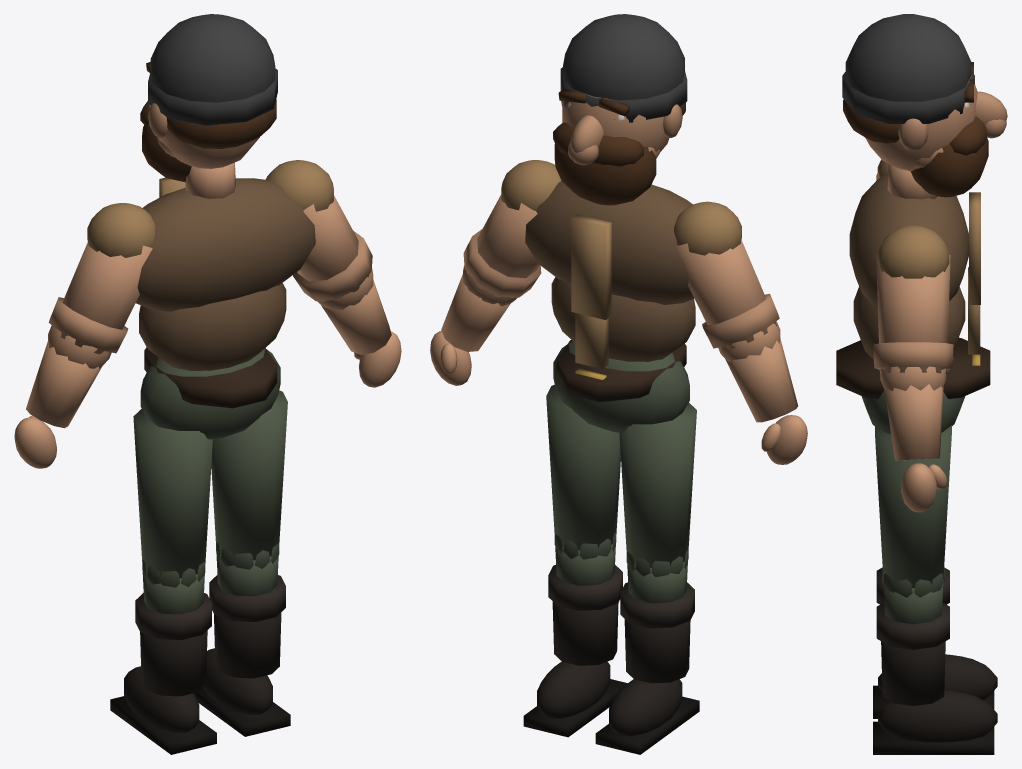
Rendered from estivador_1.glb.
The picture shows the model from 3 angles, left to right: view 1: azimuth 30°, elevation 25°; view 2: azimuth 150°, elevation 25°; view 3: azimuth 270°, elevation 25°; orthographic projection. The views are drawn at different scales.
Parts seen in each view (by area): view 1: Chest, Head, RightUpperLeg, LeftUpperLeg, Hips, Spine, RightLowerLeg, LeftLowerLeg, RightUpperArm, LeftUpperArm, RightForeArm, RightFoot (+5 smaller); view 2: Chest, Head, RightUpperLeg, LeftUpperLeg, Hips, RightLowerLeg, LeftLowerLeg, Spine, RightUpperArm, LeftUpperArm, RightFoot, LeftFoot (+4 smaller); view 3: Head, Chest, LeftLowerLeg, LeftUpperLeg, LeftUpperArm, LeftFoot, Hips, LeftForeArm, Spine, RightFoot, LeftHand, Neck (+1 smaller).
Part boxes in pixels (x1,y1,x2,y2): Chest: (87,160,333,311); Head: (140,14,277,182); RightUpperLeg: (133,408,212,578); LeftUpperLeg: (211,390,287,560); Hips: (140,347,280,439); Spine: (139,283,286,370); RightLowerLeg: (135,560,211,696); LeftLowerLeg: (209,542,285,678); RightUpperArm: (48,242,152,356); LeftUpperArm: (293,195,372,301); RightForeArm: (26,325,111,428); RightFoot: (110,666,216,754); Chest: (501,160,741,319); Head: (553,14,687,205); RightUpperLeg: (619,403,696,568); LeftUpperLeg: (546,385,620,550); Hips: (553,340,689,432); RightLowerLeg: (620,550,694,683); LeftLowerLeg: (548,532,622,665); Spine: (551,277,695,369); RightUpperArm: (674,240,779,351); LeftUpperArm: (463,194,541,297); RightFoot: (595,679,699,754); LeftFoot: (523,661,627,737); Head: (842,14,1007,197); Chest: (849,159,980,309); LeftLowerLeg: (876,567,949,705); LeftUpperLeg: (875,425,951,588); LeftUpperArm: (873,254,953,374); LeftFoot: (873,690,997,754); Hips: (836,337,990,434); LeftForeArm: (880,366,946,460); Spine: (853,267,980,359); RightFoot: (873,654,997,718); LeftHand: (901,463,947,512); Neck: (887,164,937,199).
Bounding box in the file's own units: 1.09 × 1.92 × 0.4228.
